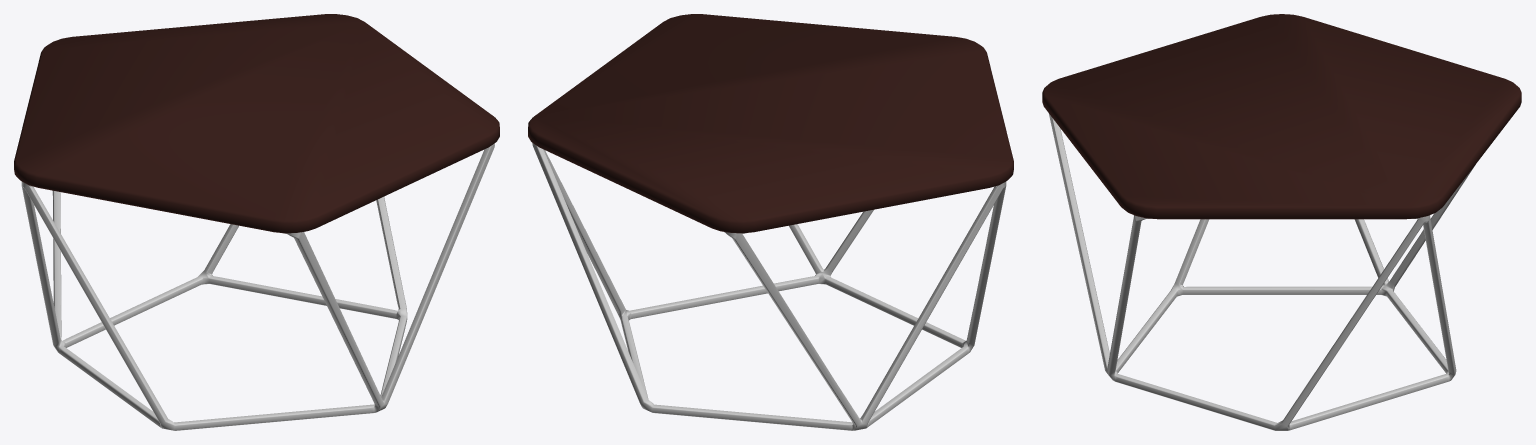
The model's file is CoffeeTable.fbx.
3 renders of one model, left to right at view 1: azimuth 30°, elevation 25°; view 2: azimuth 150°, elevation 25°; view 3: azimuth 270°, elevation 25°, orthographic. The views are drawn at different scales.
Visible parts, largest first — view 1: CoffeTable; view 2: CoffeTable; view 3: CoffeTable.
Part boxes in pixels (box(x1,y1,x2,y2)): CoffeTable: box(14, 14, 499, 430); CoffeTable: box(528, 14, 1013, 430); CoffeTable: box(1042, 14, 1521, 430).
Size of the model in its own units: 78.29 by 44.51 by 81.66.
